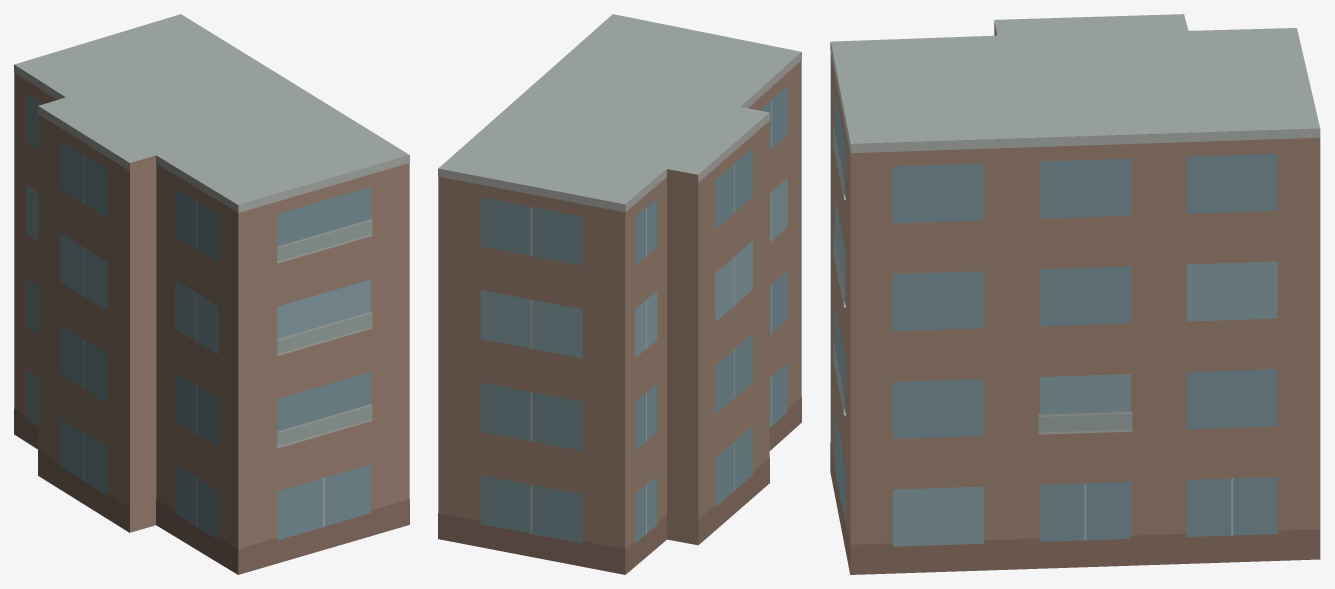
Rendered from survey-upis-32652889.glb.
3 views of the same model, side by side, from view 1: azimuth 30°, elevation 25°; view 2: azimuth 150°, elevation 25°; view 3: azimuth 270°, elevation 25° (orthographic). The views are drawn at different scales.
Visible parts, largest first — view 1: survey-upis-32652889.tmp; view 2: survey-upis-32652889.tmp; view 3: survey-upis-32652889.tmp.
Part boxes in pixels (x1,y1,x2,y2): survey-upis-32652889.tmp: [14, 14, 409, 574]; survey-upis-32652889.tmp: [438, 14, 801, 574]; survey-upis-32652889.tmp: [830, 14, 1320, 574].
Size of the model in its own units: 7.3 by 11.28 by 11.63.
